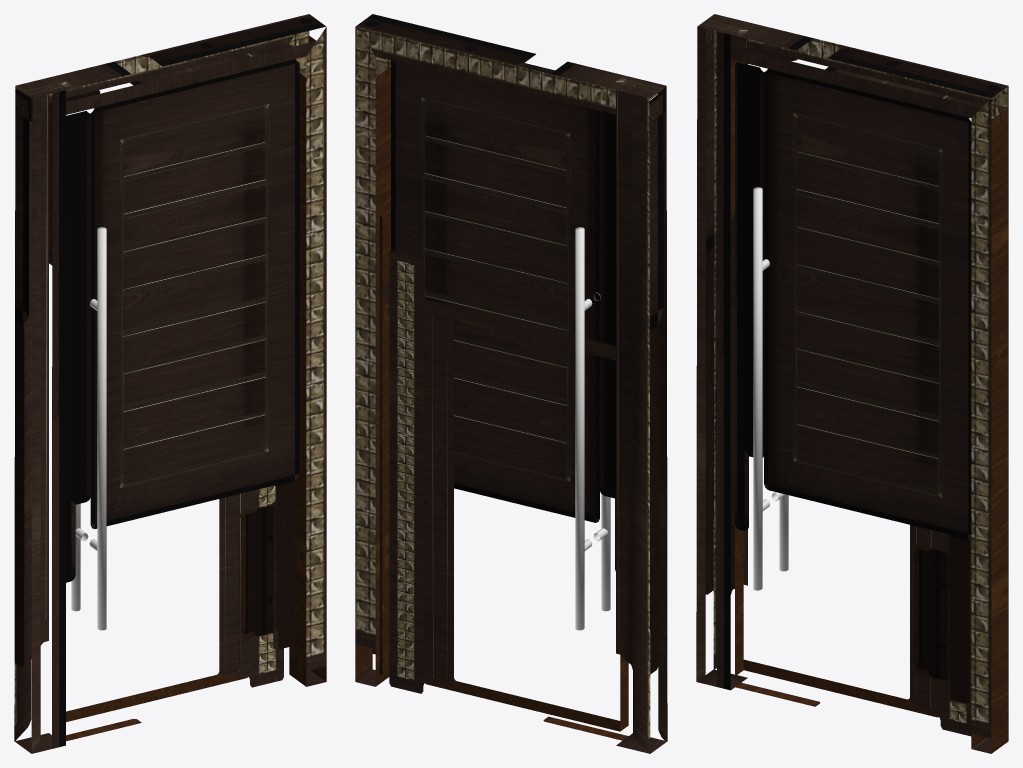
The model's file is Door_All.fbx.
The picture shows the model from 3 angles, left to right: view 1: azimuth 30°, elevation 25°; view 2: azimuth 150°, elevation 25°; view 3: azimuth 330°, elevation 25°; orthographic projection.
Visible parts, largest first — view 1: door.001; view 2: door.001; view 3: door.001.
Boxes of the visible parts, x1=… form: door.001: x1=14, y1=14, x2=326, y2=753; door.001: x1=355, y1=14, x2=667, y2=753; door.001: x1=696, y1=14, x2=1008, y2=753.
Bounding box in the file's own units: 188 × 400 × 34.5.
